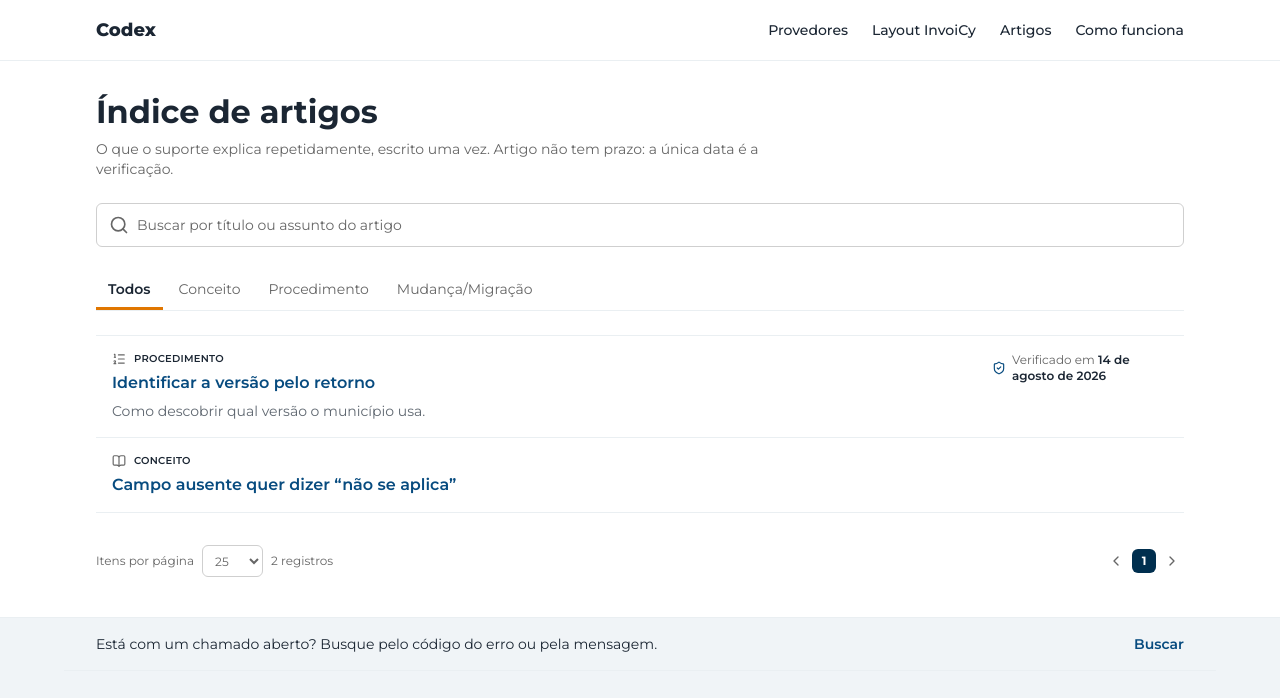
Test: ArtigosIndexPage — tela 7 › trocar de aba muda a URL e refaz a consulta com o tipo filtrado
Expected: the link "Identificar a versão pelo retorno" is shown, [112, 373, 375, 392]
Click the link "Conceito": (209, 289) [178, 280, 240, 298]
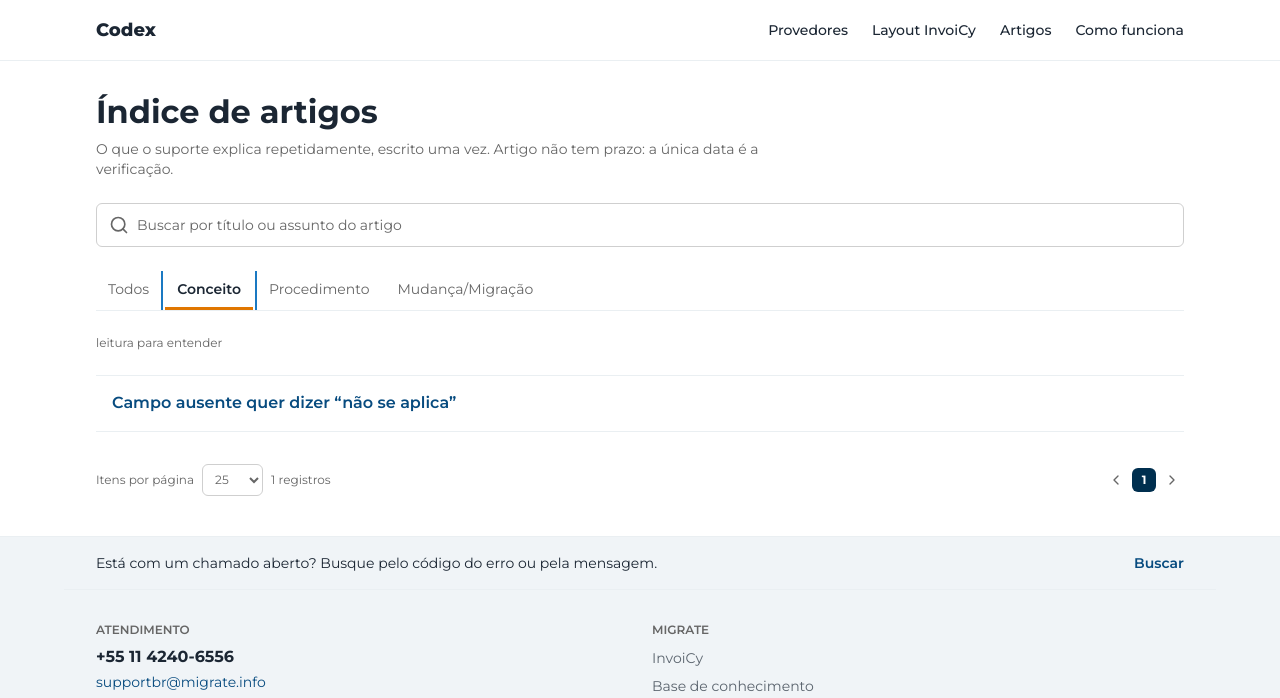
Expected: the link "Conceito" is shown, [165, 271, 253, 310]
Result: the link "Identificar a versão pelo retorno" is gone
